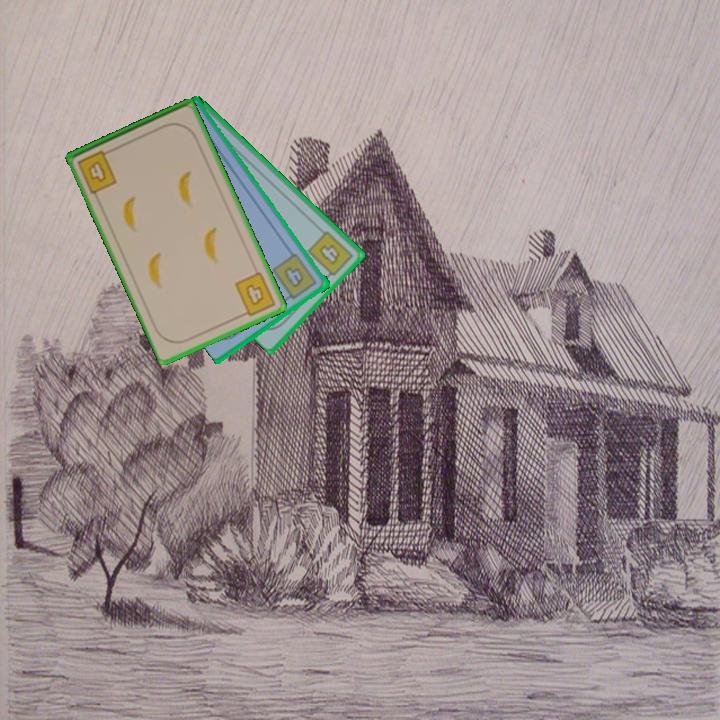4b: (304, 227, 356, 282), (269, 250, 320, 304), (231, 268, 279, 320), (74, 146, 120, 196)
